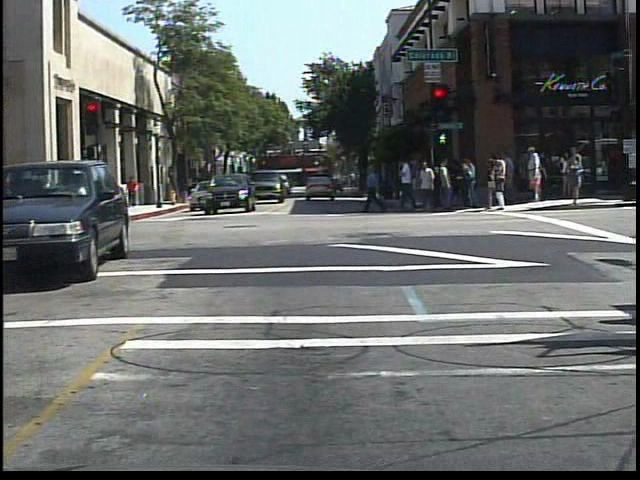person: (523, 146, 548, 206), (34, 171, 58, 232), (2, 175, 23, 229), (124, 173, 145, 211)
